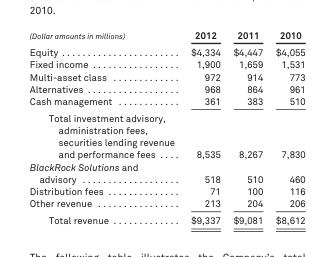table: (28, 28, 304, 225)
table column: (28, 28, 182, 225), (182, 28, 226, 225), (226, 28, 268, 225), (268, 28, 304, 225)
table column header: (28, 28, 304, 43)
table row: (28, 109, 304, 160), (28, 160, 304, 184), (28, 28, 304, 43), (28, 43, 304, 58), (28, 94, 304, 109), (28, 196, 304, 211), (28, 211, 304, 225), (28, 58, 304, 70), (28, 70, 304, 82), (28, 82, 304, 94), (28, 184, 304, 196)
